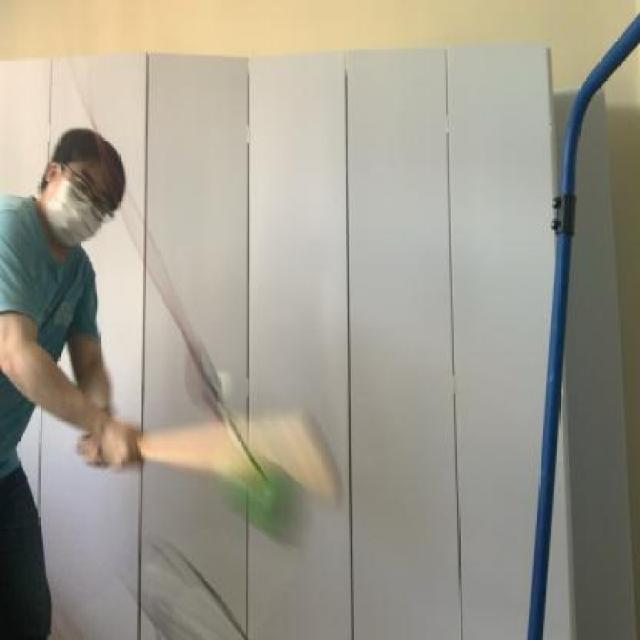baseball: (216, 442, 318, 555)
